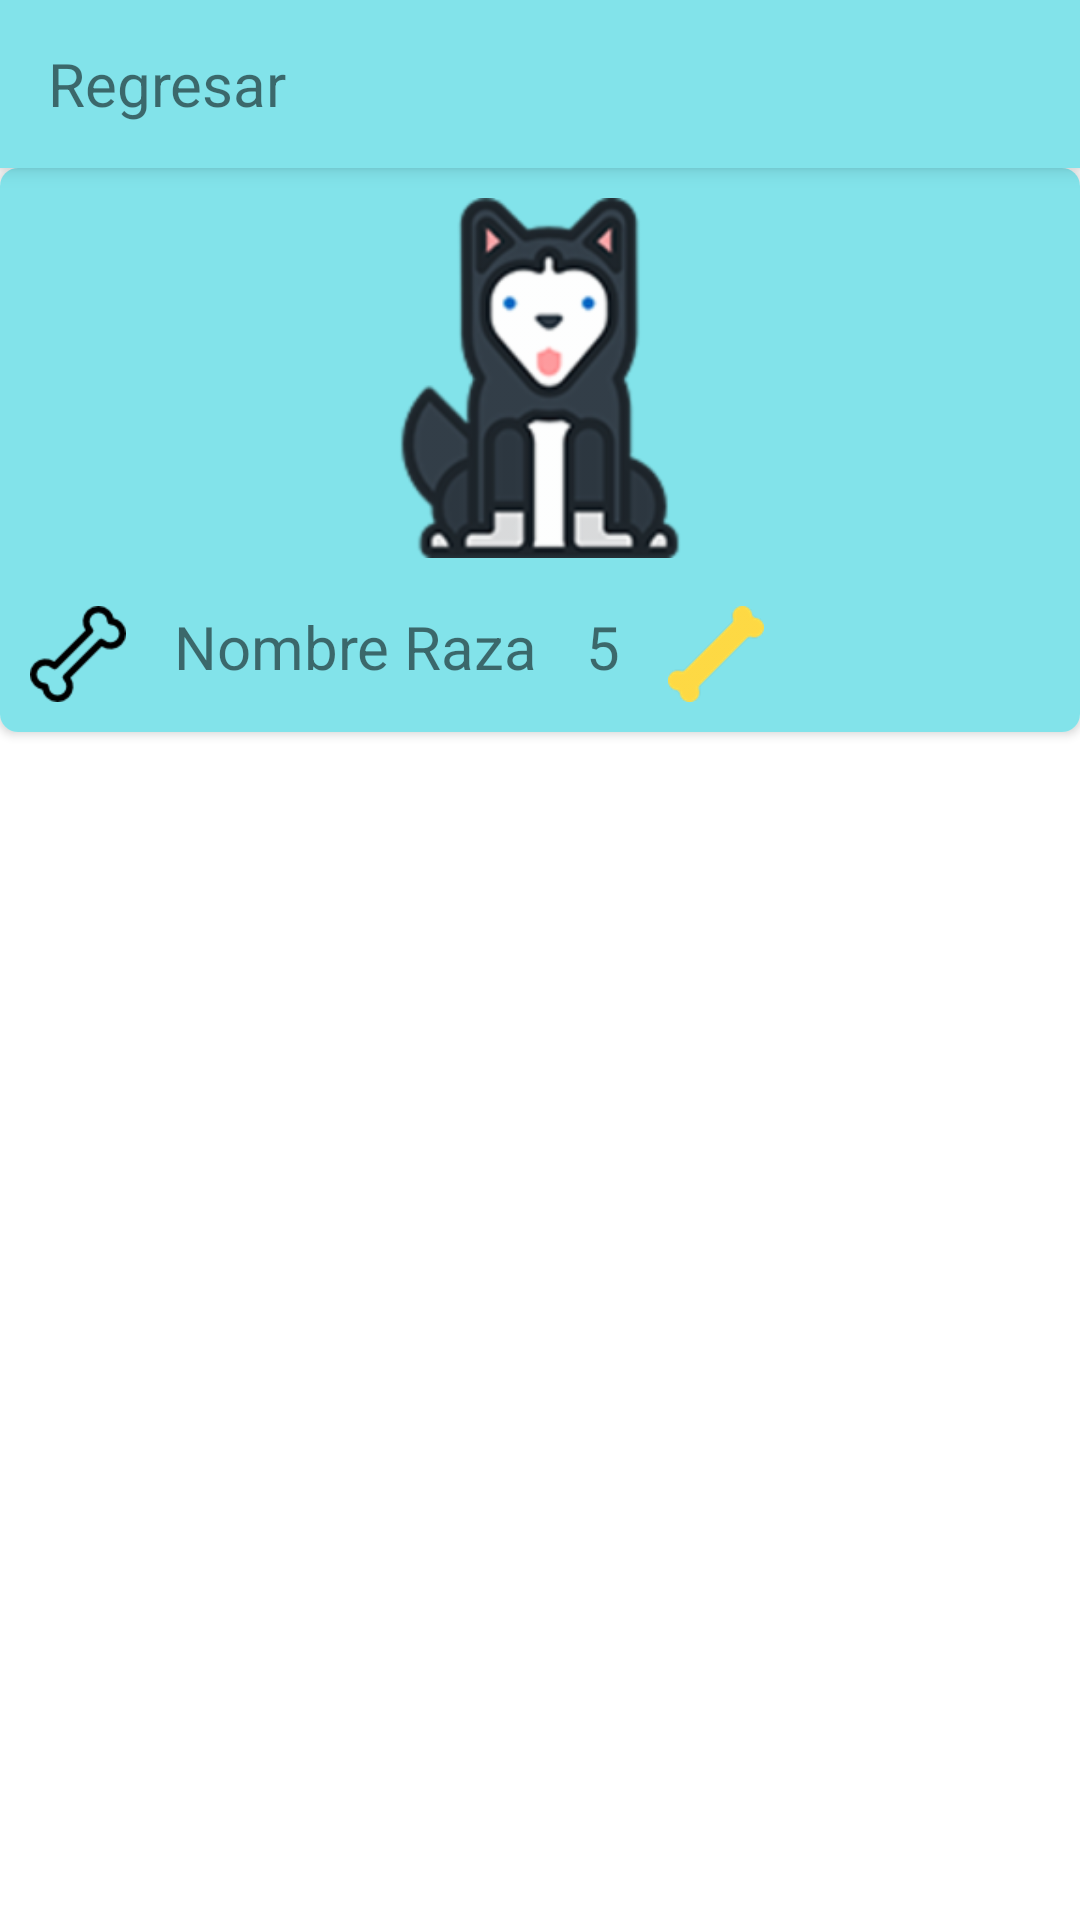

Locate icon controls on the screen. Image size 1080px x 1920px, boxes as (x1, y1, x2, y2).
siberian husky: (401, 198, 679, 558)
